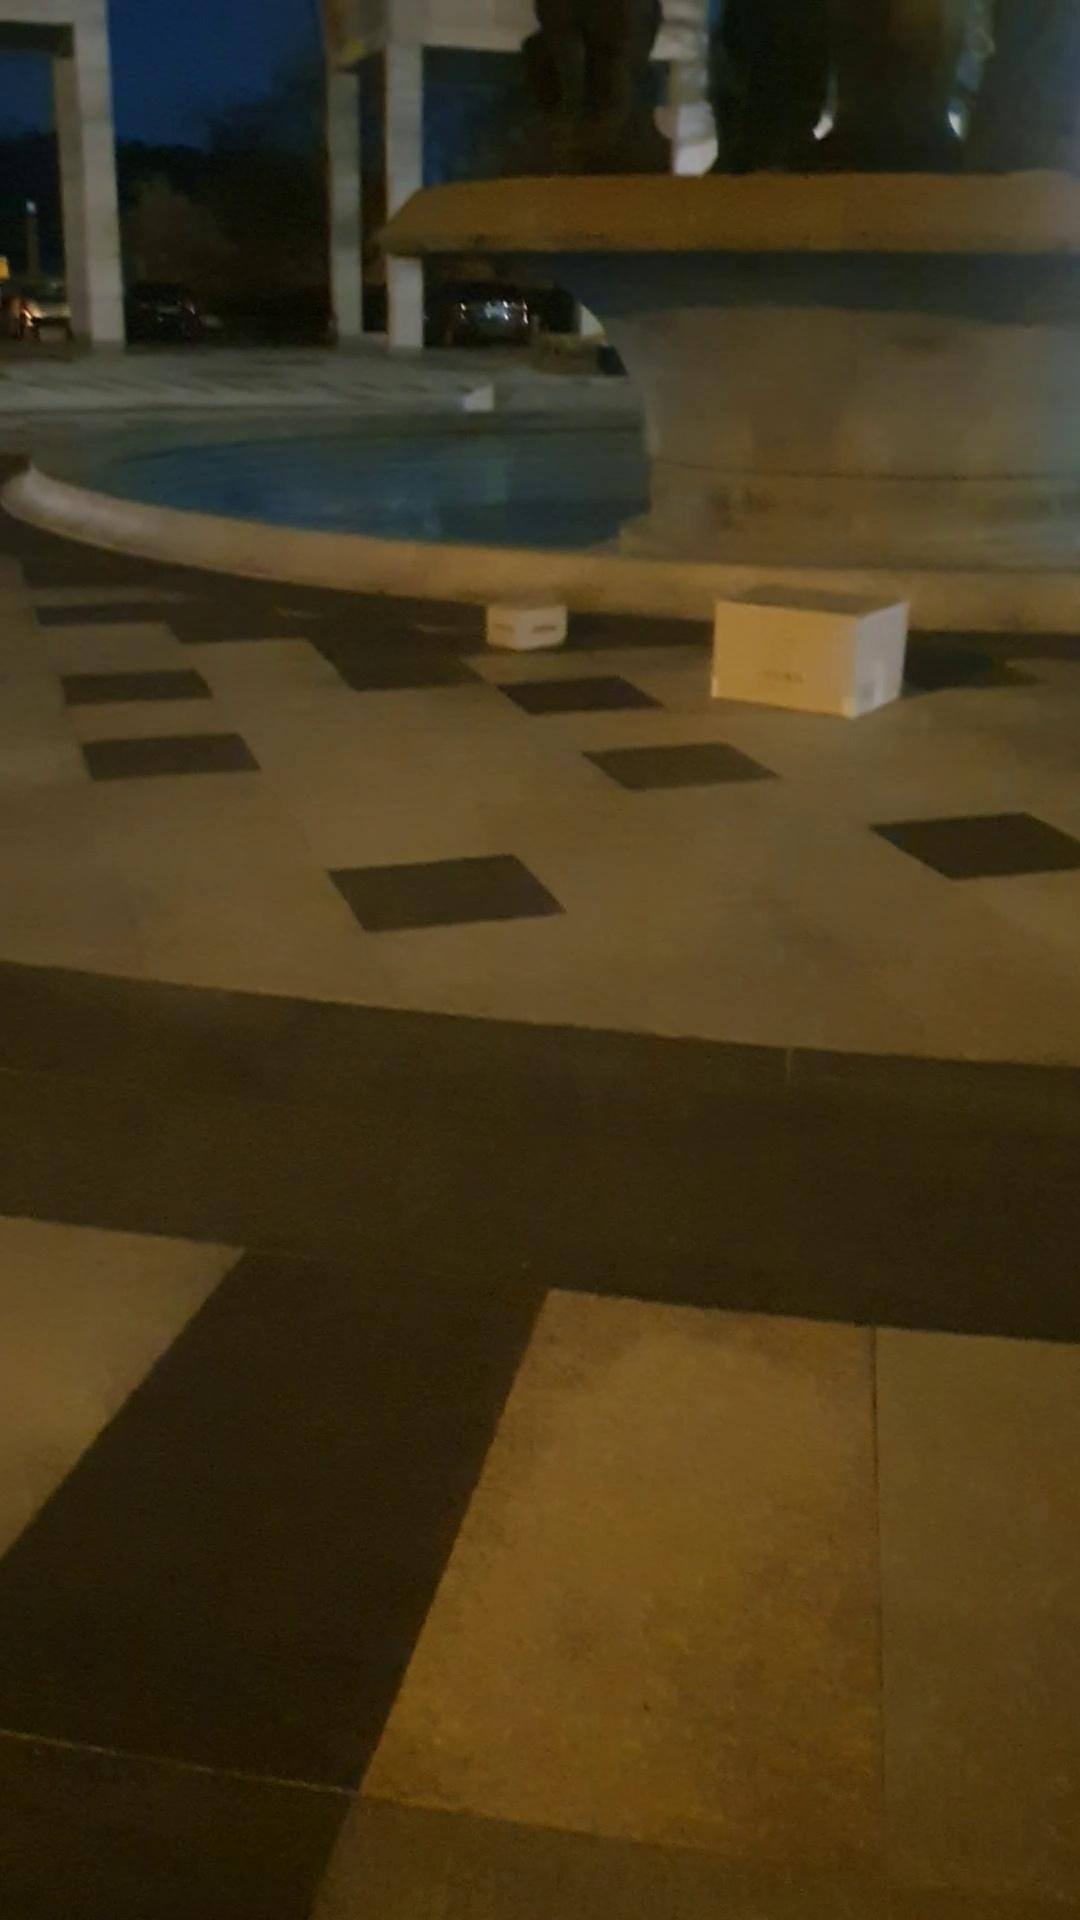Box: (698, 578, 934, 723), (483, 580, 575, 651)
